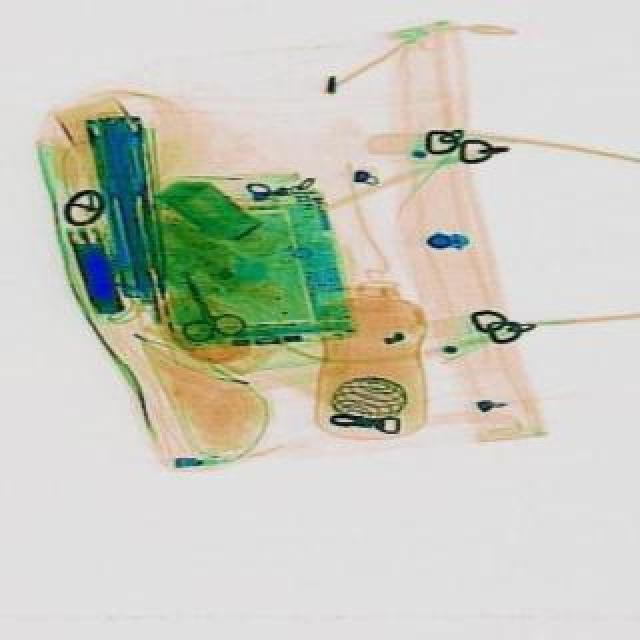pliers: (166, 270, 250, 354)
